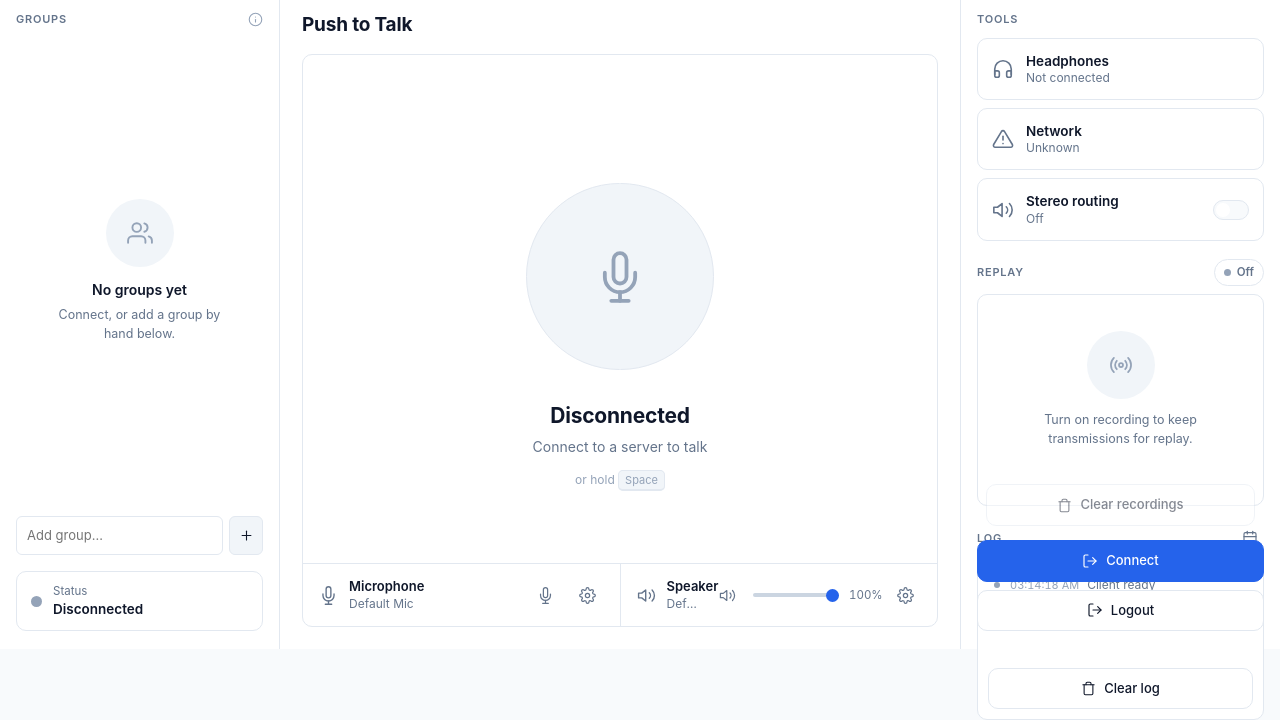
Scenario: PTToX client shell › records and clears activity log entries
(page scrolled)
Click the button "Clear log" at (1121, 689), box [988,668,1253,710]
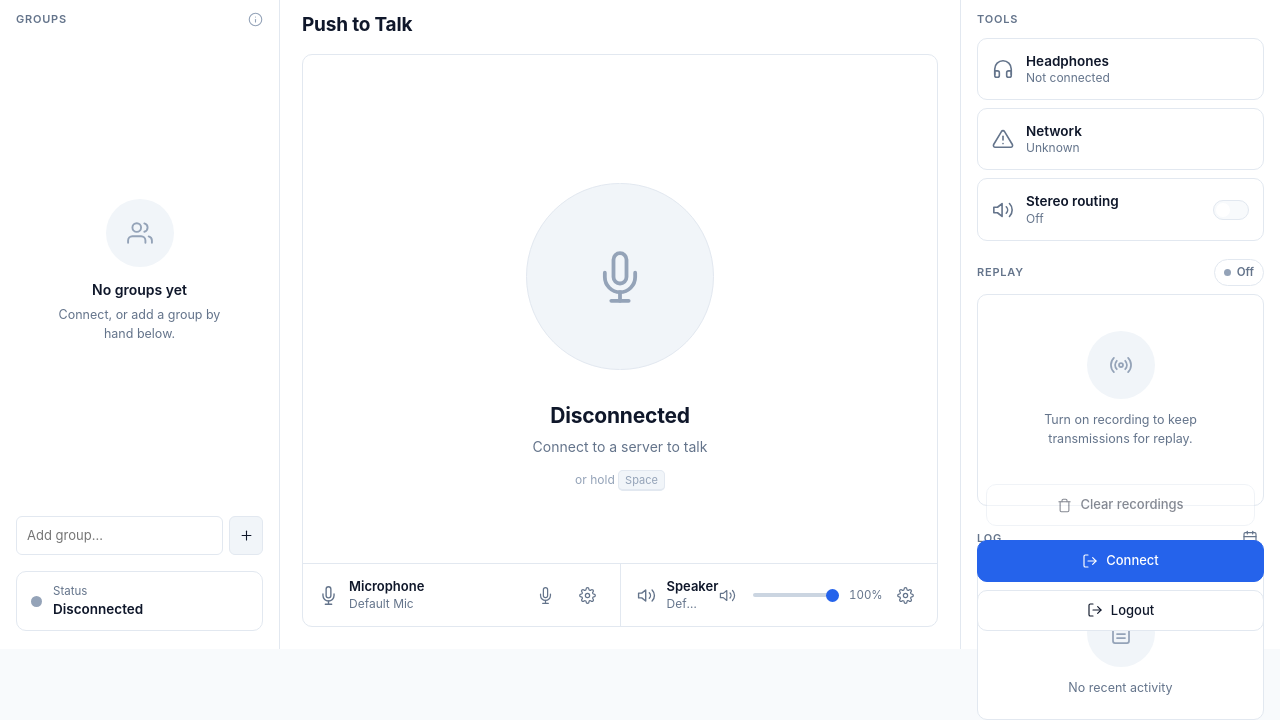
Expected: the text "No recent activity" is shown, [1068,679,1173,698]
